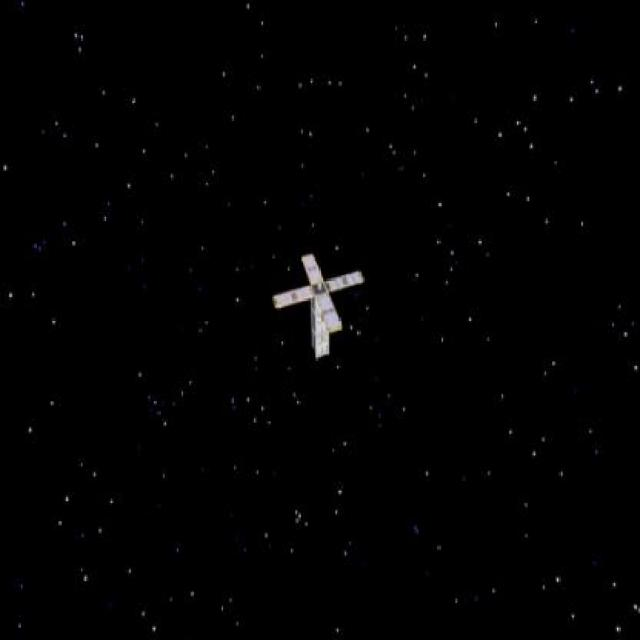medium_debris: (266, 250, 384, 377)
